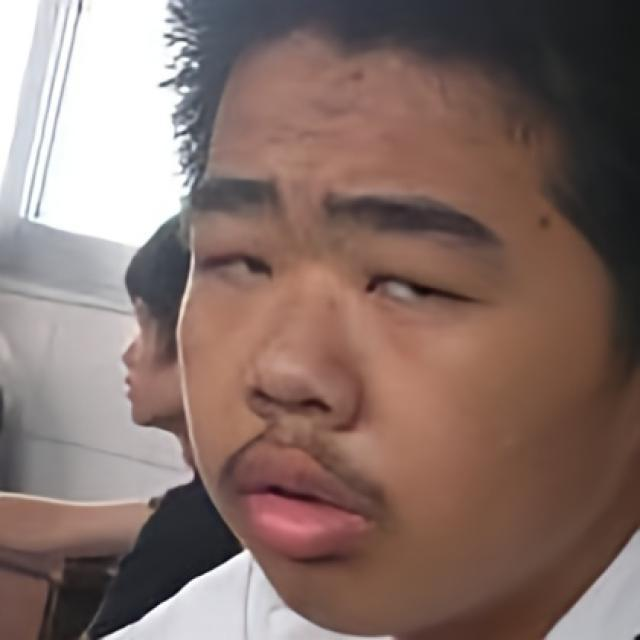sad: (177, 27, 640, 634)
